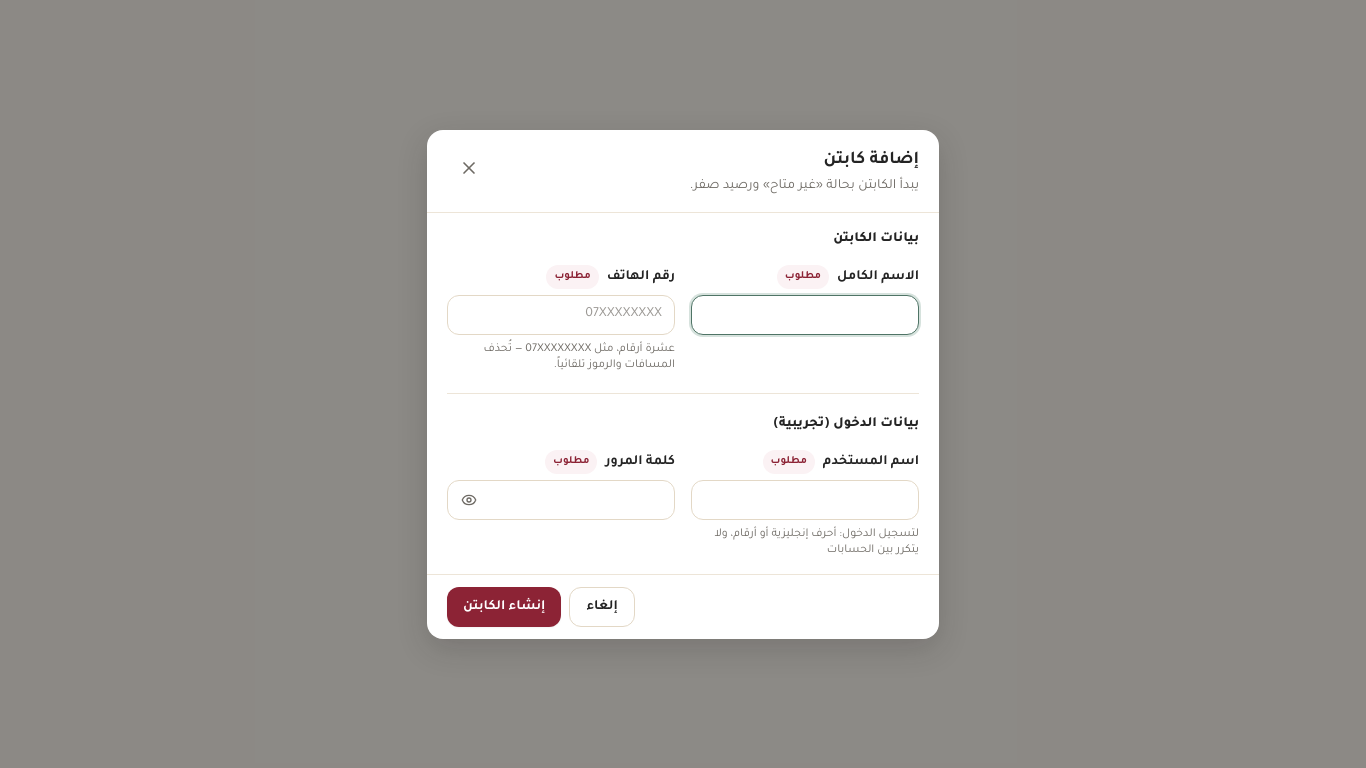
it: shared credentials: captain password like merchant, global unique usernames, inline errors › a username owned by a merchant shows the inline duplicate error on the captain form, keeps the values and focuses the field
This screenshot has width=1366, height=768.
Type "كابتن" into the field labelled "الاسم الكامل مطلوب".
click(805, 314); type("كابتن")  # box [691,294,919,334]
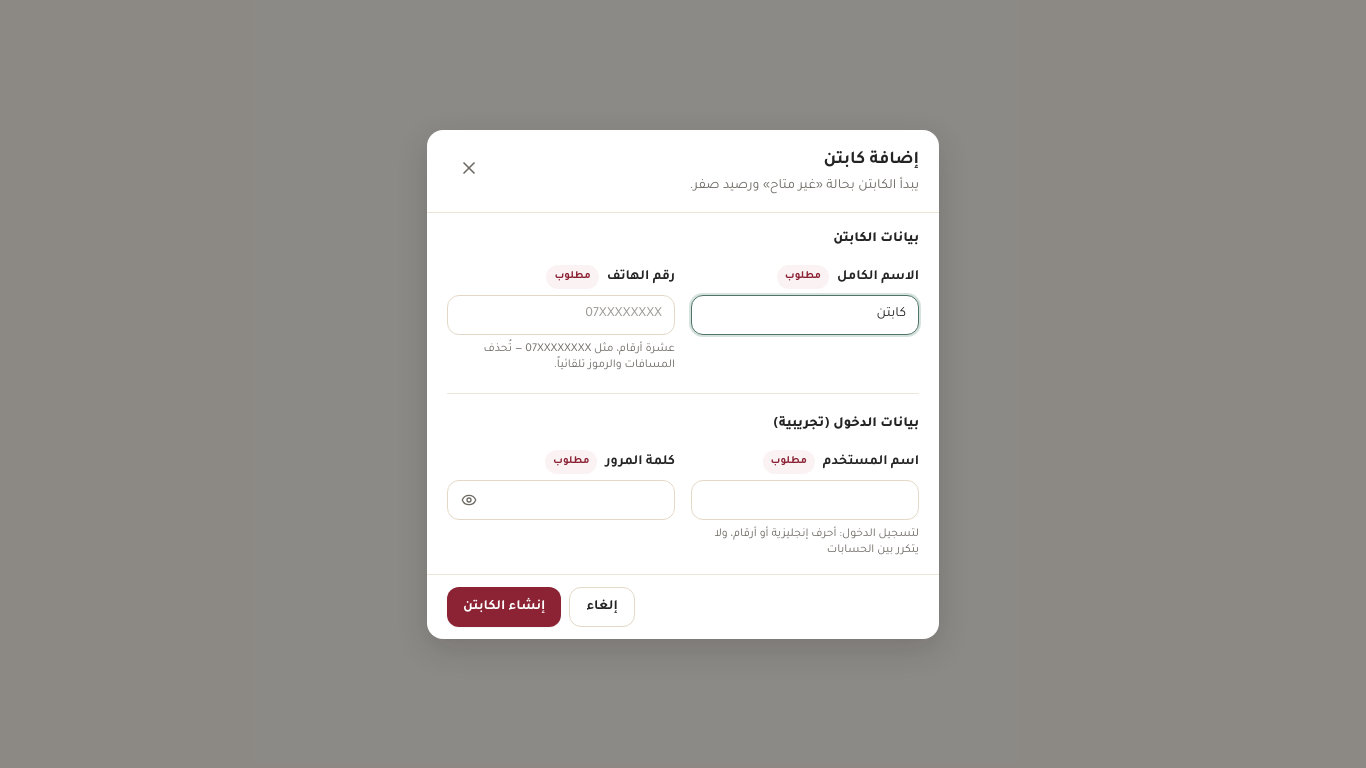
Type "0795556677" into the field with placeholder "07XXXXXXXX".
click(561, 314); type("0795556677")  # box [447,294,675,334]
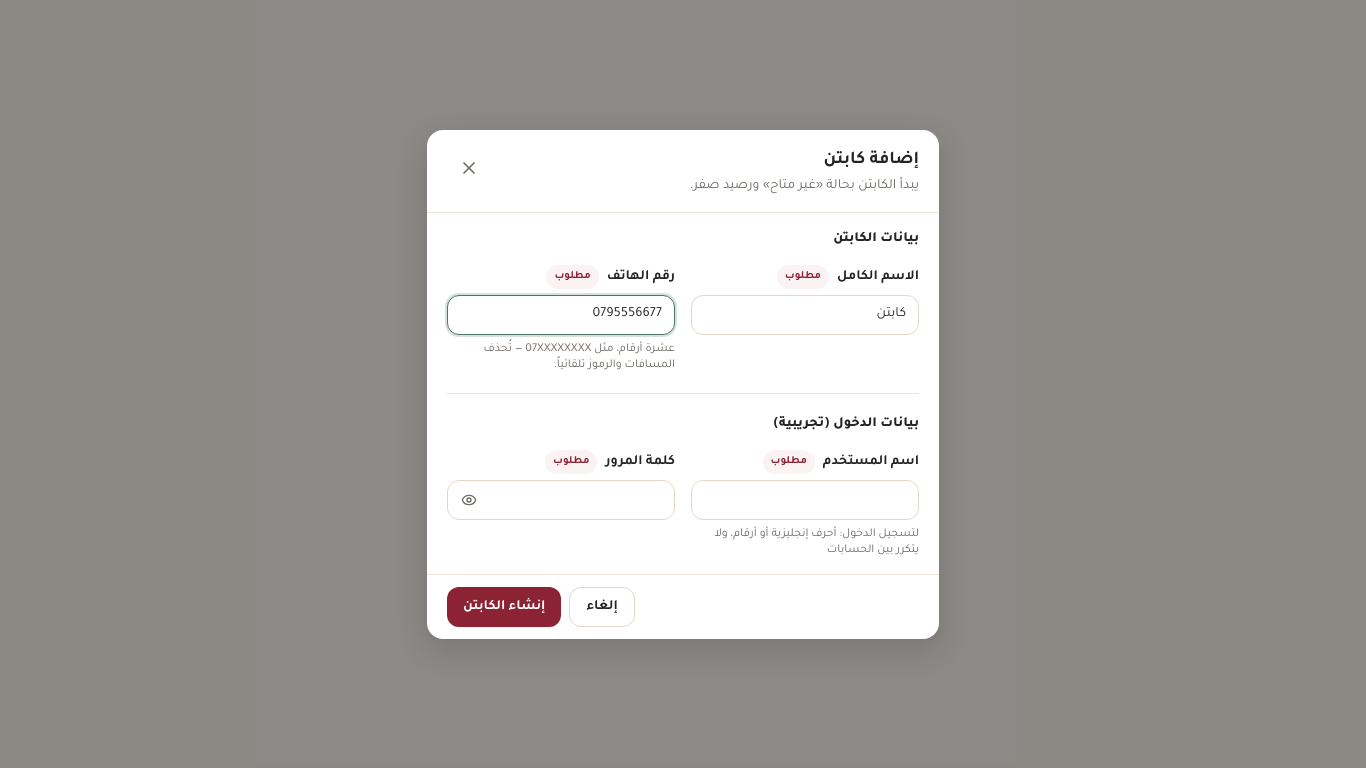
Type "Merchant1" into the field labelled "اسم المستخدم مطلوب".
click(805, 500); type("Merchant1")  # box [691,480,919,520]
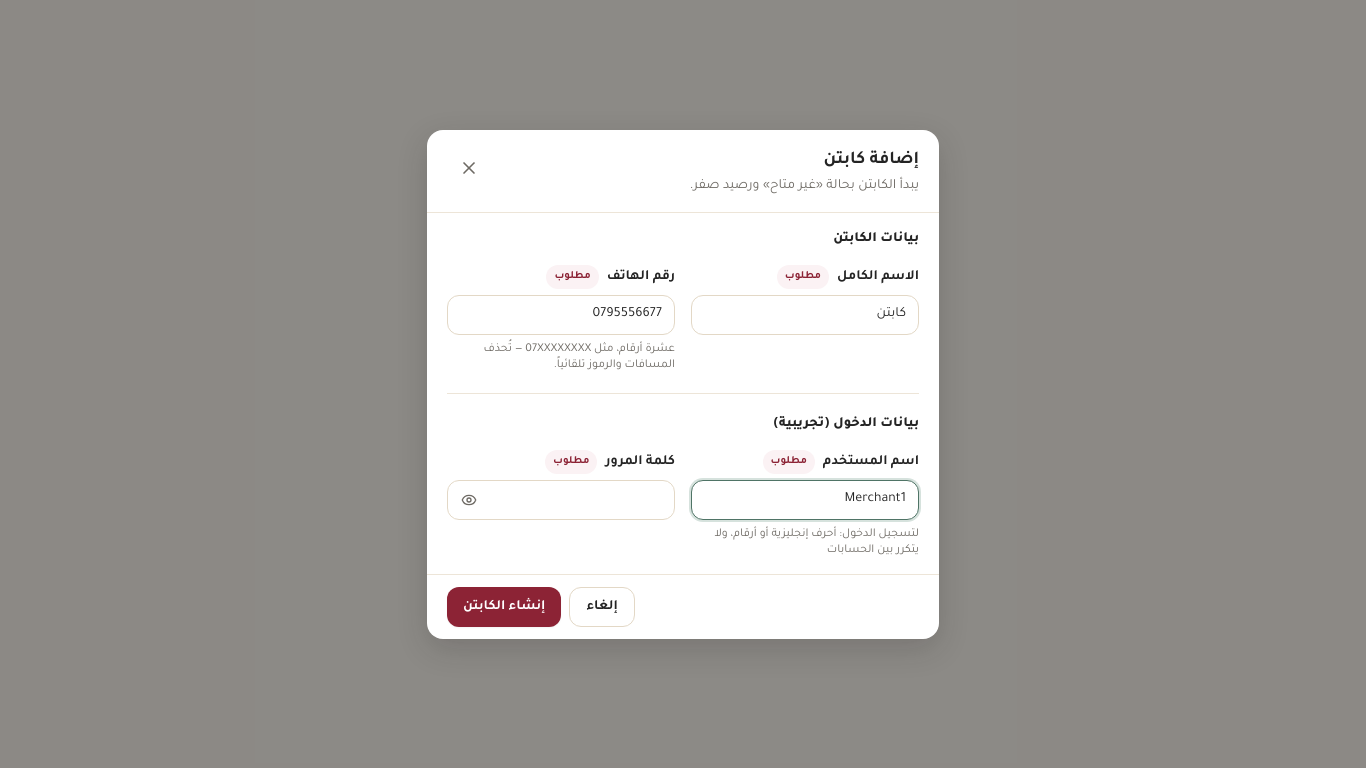
Type "x" into the password field labelled "كلمة المرور مطلوب".
click(561, 500); type("x")  # box [447,480,675,520]
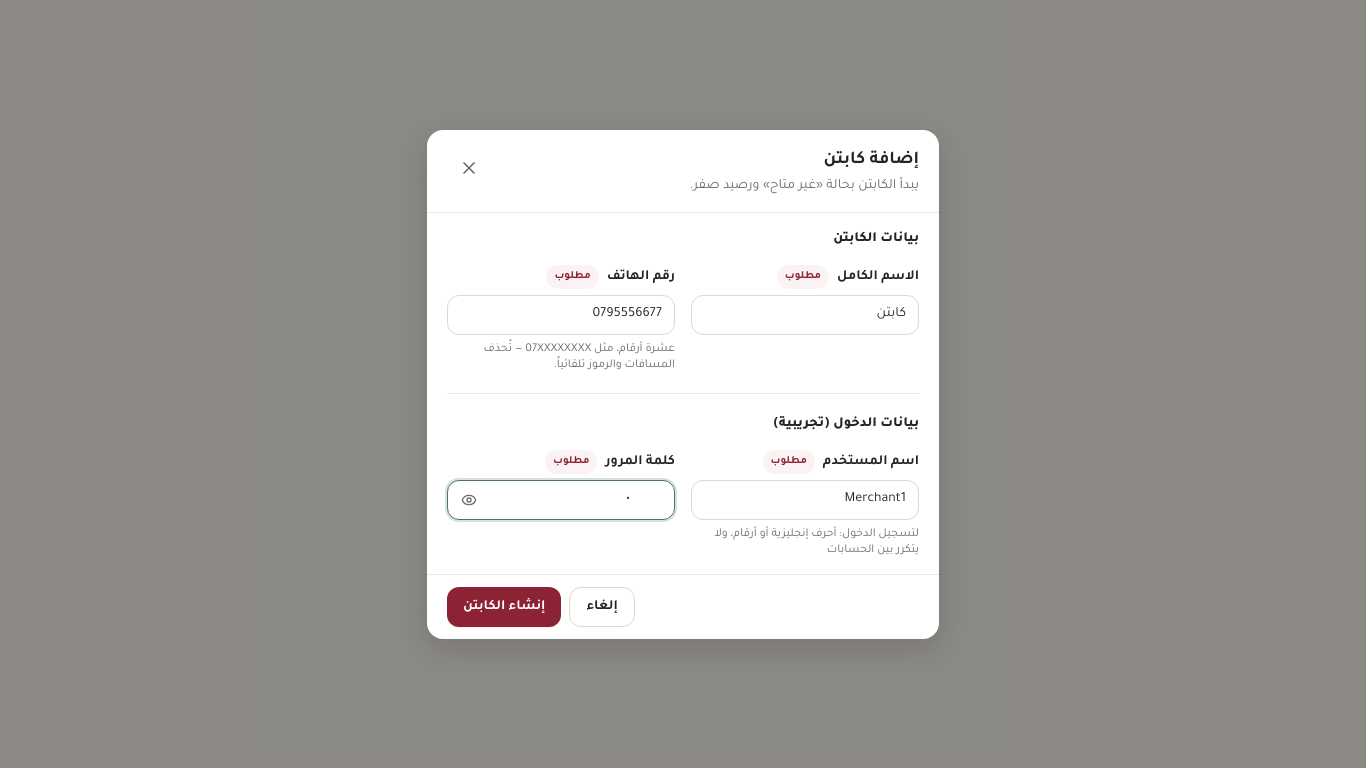
Click the button "إنشاء الكابتن".
click(504, 606)  # box [447,586,561,626]
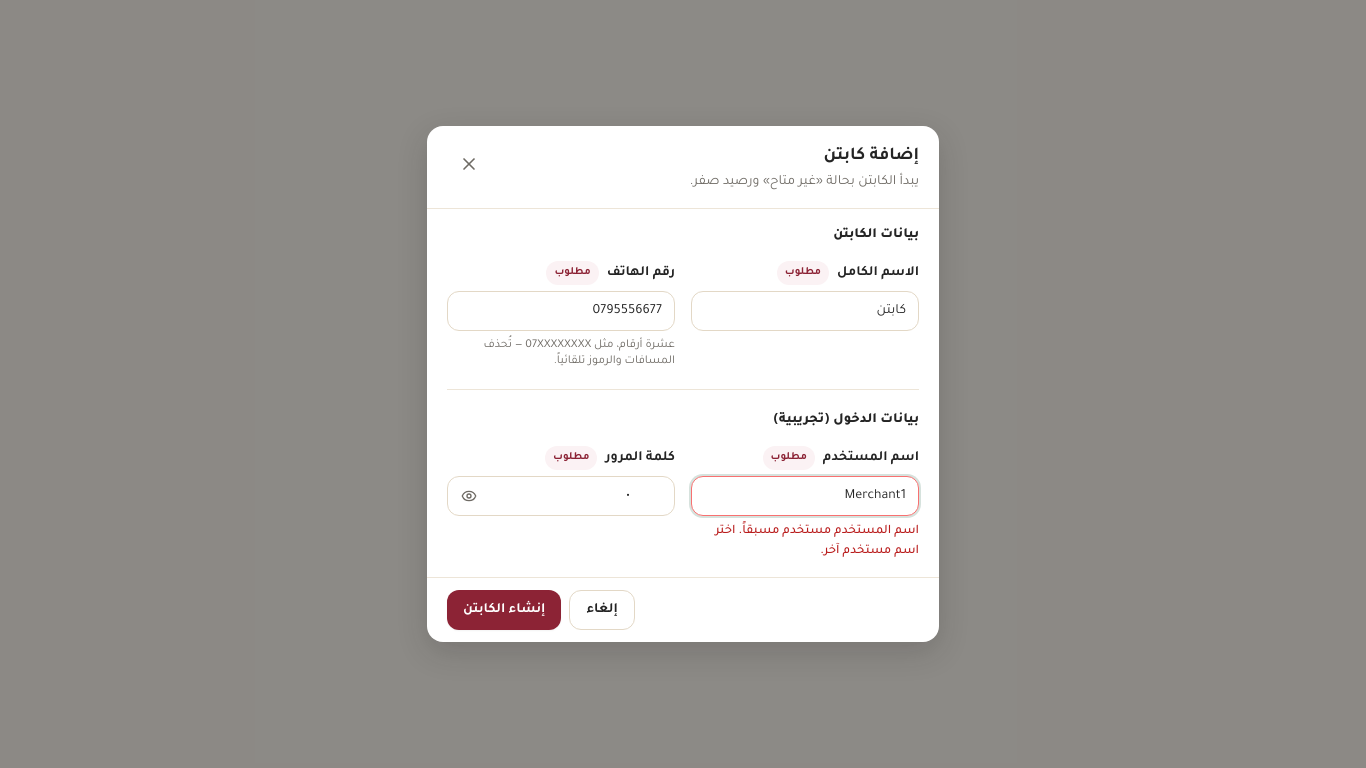
expect the text "اسم المستخدم مستخدم مسبقاً. اختر اسم مستخدم آخر." is shown: met, box [691,522,919,561]
